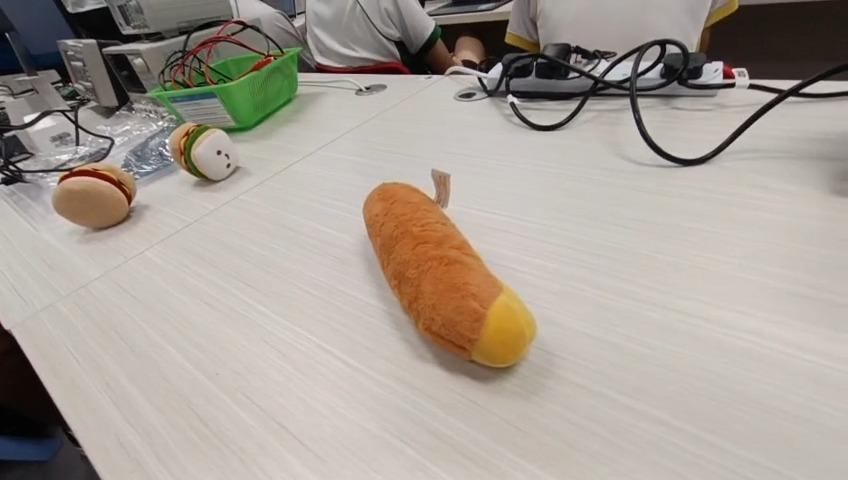hotdog: (361, 175, 537, 369)
